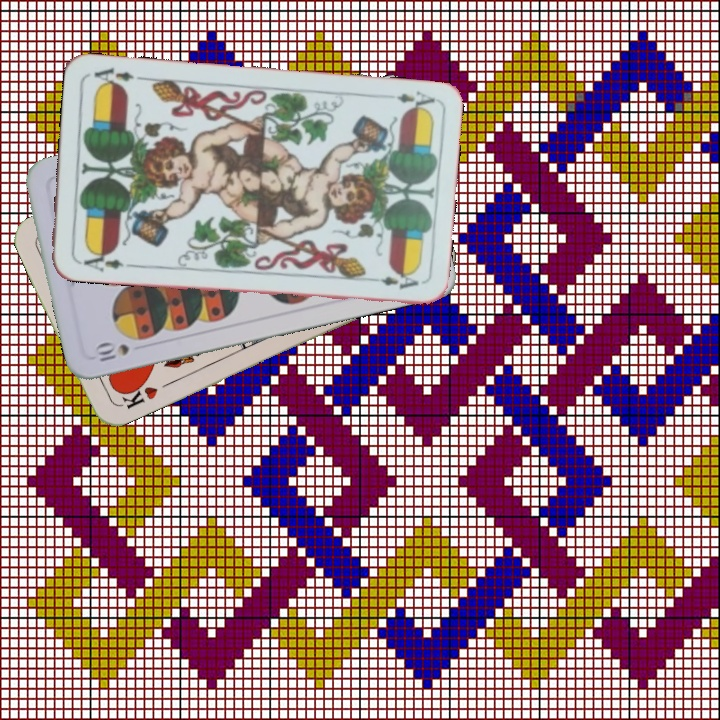EA: (74, 247, 133, 275), (392, 87, 437, 114)
HK: (111, 376, 161, 411)
S10: (93, 339, 132, 364)
